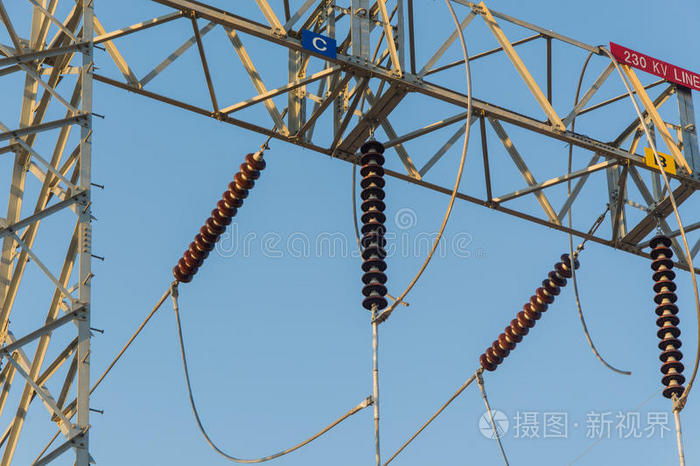insulator: (173, 148, 267, 280), (478, 254, 579, 370), (648, 236, 688, 397), (359, 139, 390, 311)
